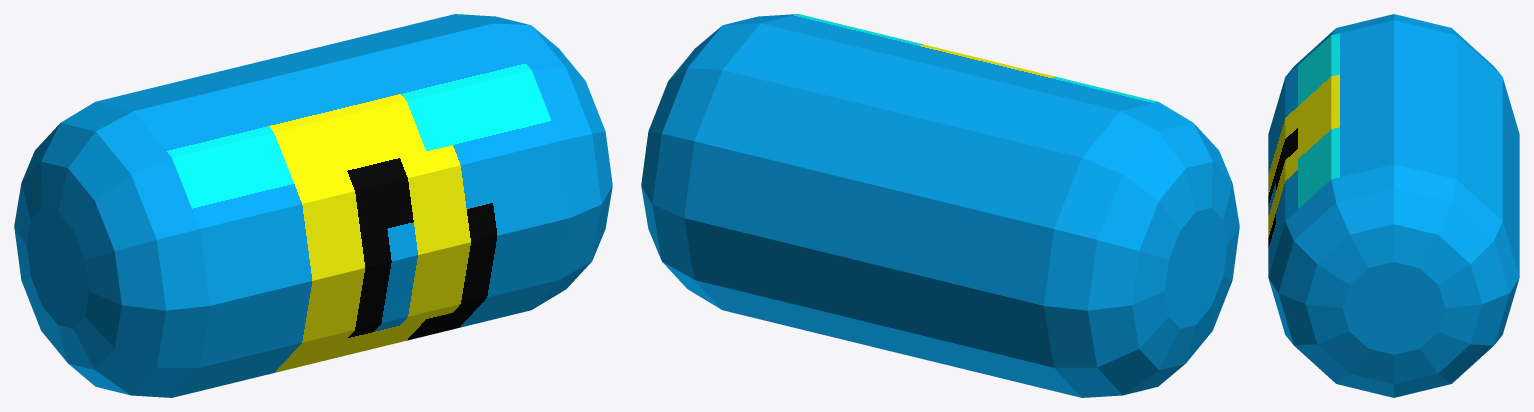
Rendered from powerup_d.glb.
3 renders of one model, left to right at view 1: azimuth 30°, elevation 25°; view 2: azimuth 150°, elevation 25°; view 3: azimuth 270°, elevation 25°, orthographic. The views are drawn at different scales.
Visible parts, largest first — view 1: Cylinder; view 2: Cylinder; view 3: Cylinder.
Part boxes in pixels (x1=…): Cylinder: x1=14, y1=14, x2=612, y2=397; Cylinder: x1=641, y1=14, x2=1239, y2=397; Cylinder: x1=1268, y1=14, x2=1519, y2=397.
Bounding box in the file's own units: 0.162 × 0.084 × 0.084.
Materials: 1 (1 with a texture image).
